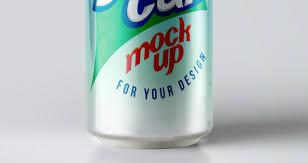Aluminum can: (76, 0, 245, 145)
